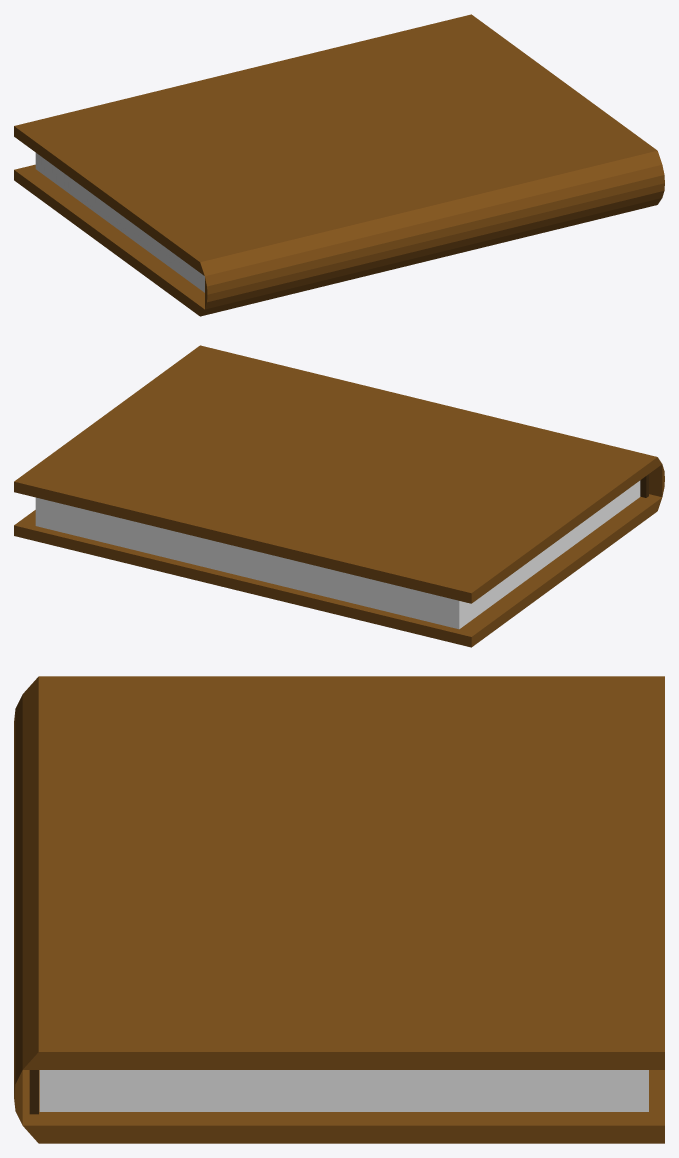
File: Manual.fbx
The picture shows the model from 3 angles, top to bottom: view 1: azimuth 30°, elevation 25°; view 2: azimuth 150°, elevation 25°; view 3: azimuth 270°, elevation 25°; orthographic projection. The views are drawn at different scales.
Visible parts, largest first — view 1: Plane.003; view 2: Plane.003; view 3: Plane.003.
Boxes of the visible parts, x1,y1,x2,y2 form: Plane.003: (14, 14, 664, 316); Plane.003: (14, 345, 664, 647); Plane.003: (14, 676, 664, 1143).
Bounding box in the file's own units: 200 × 22.69 × 146.
